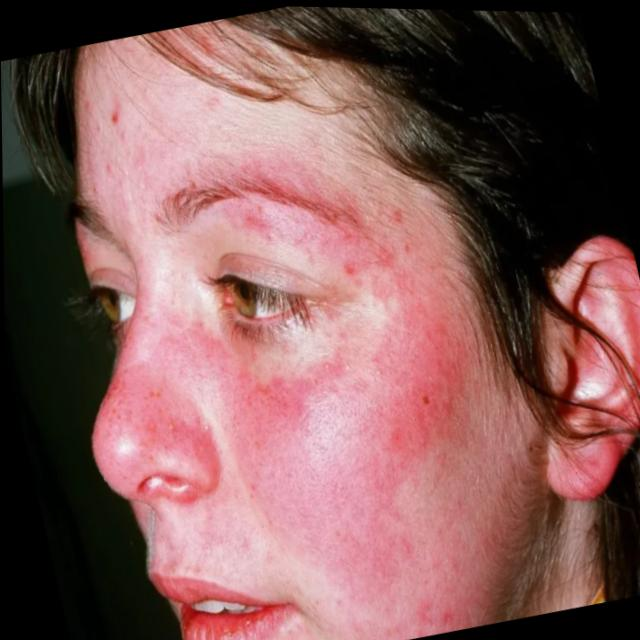skinredness: (353, 301, 491, 478)
